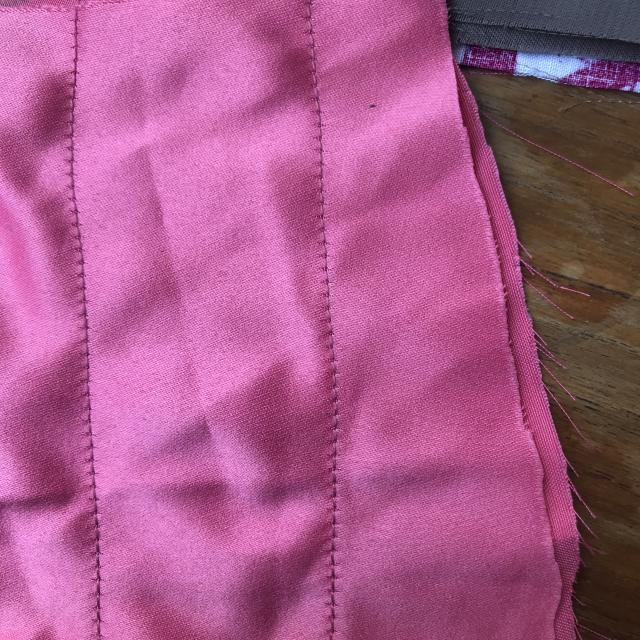good: (303, 248, 361, 401)
